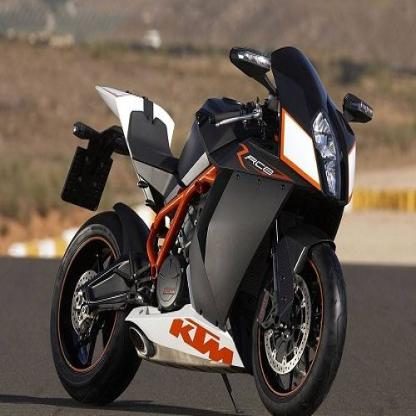bike: (62, 43, 372, 416)
